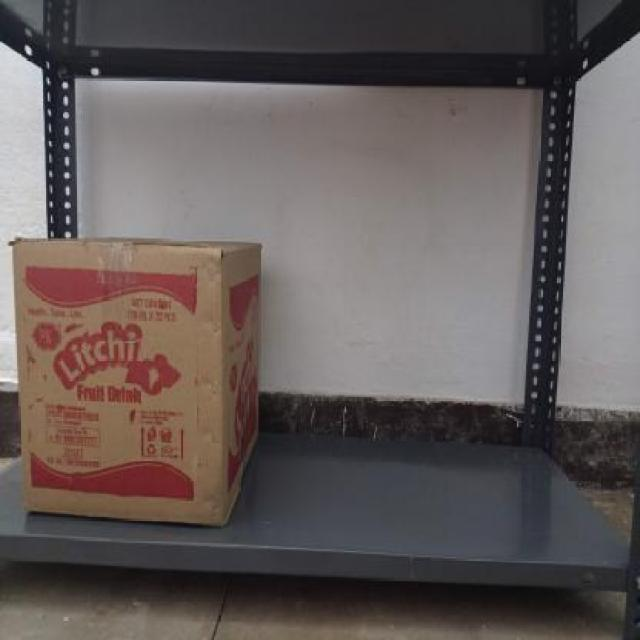box: (11, 242, 224, 530)
